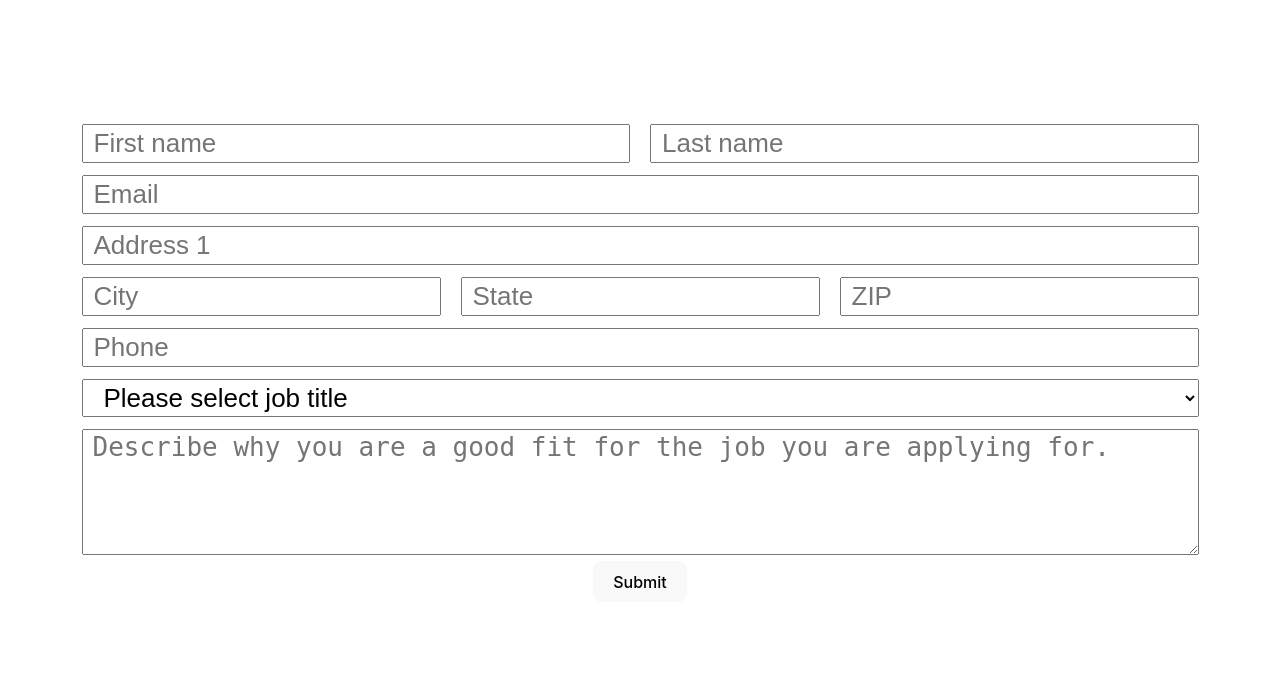
Scenario: should display required error when value is invalid
Click the button with test id "btn-submit".
click(640, 582)  # box [593, 561, 687, 602]
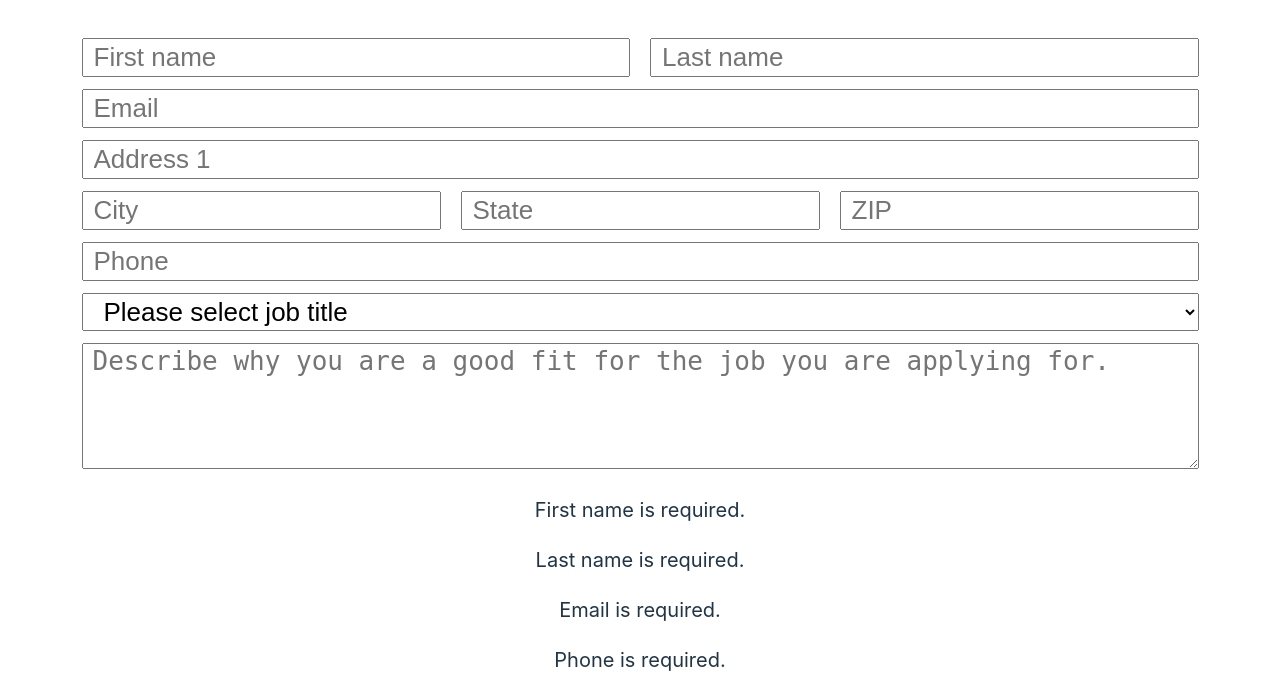
expect the text "First name is required." is shown: met, box [535, 498, 745, 522]
